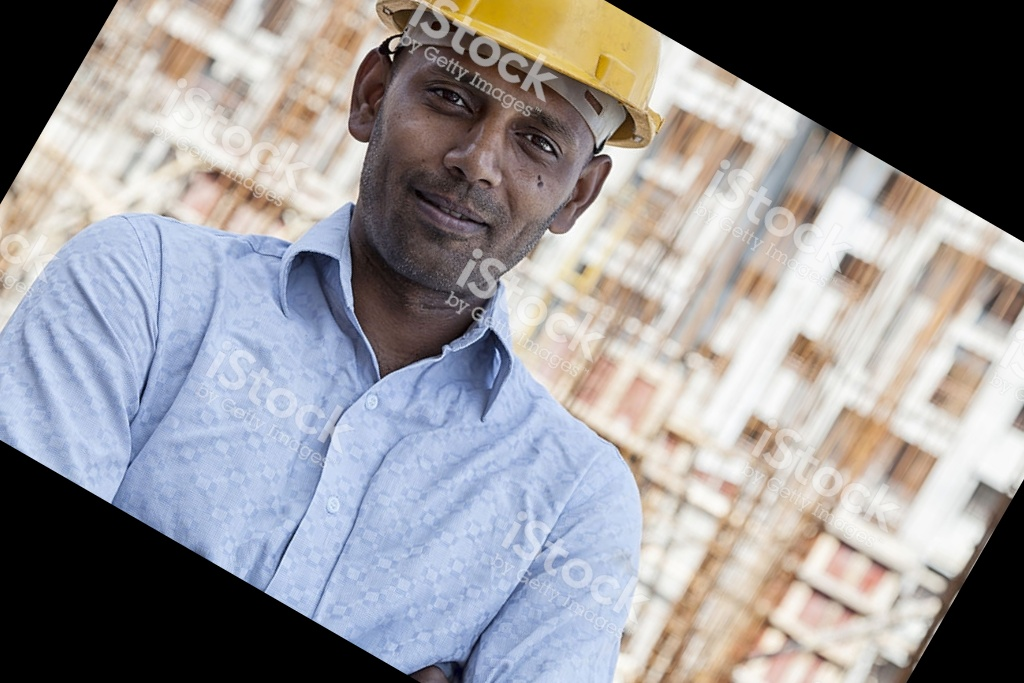NoJacket: (163, 4, 624, 601)
